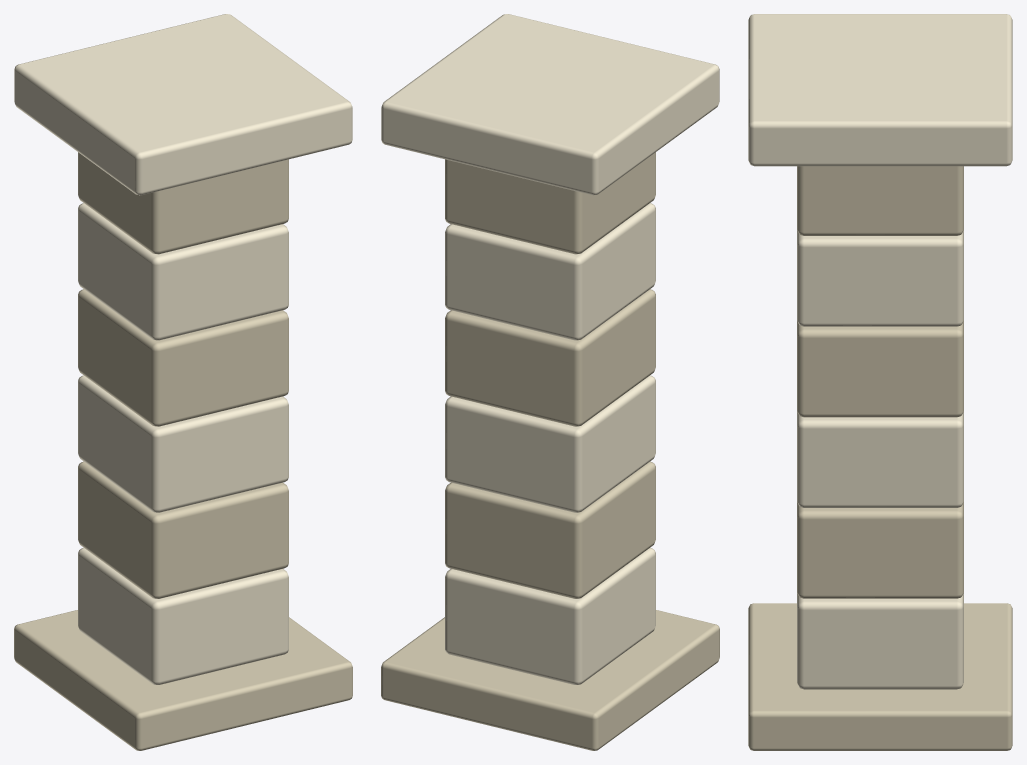
File: fantasy-bathhouse-and-thermal-sanctuary-fantasy-bathho-3282b693__29443.glb
3 views of the same model, side by side, from view 1: azimuth 30°, elevation 25°; view 2: azimuth 150°, elevation 25°; view 3: azimuth 270°, elevation 25° (orthographic). The views are drawn at different scales.
Parts seen in each view (by area): view 1: fantasy-bathhouse-and-thermal-sanctuary-aqueduct-support-pie (×2); view 2: fantasy-bathhouse-and-thermal-sanctuary-aqueduct-support-pie (×2); view 3: fantasy-bathhouse-and-thermal-sanctuary-aqueduct-support-pie (×2).
Part boxes in pixels (x1,y1,x2,y2): fantasy-bathhouse-and-thermal-sanctuary-aqueduct-support-pie (×2): (14, 14, 352, 750); fantasy-bathhouse-and-thermal-sanctuary-aqueduct-support-pie (×2): (381, 14, 719, 750); fantasy-bathhouse-and-thermal-sanctuary-aqueduct-support-pie (×2): (748, 14, 1012, 750).
Size of the model in its own units: 0.9501 by 2.5 by 0.9501.
